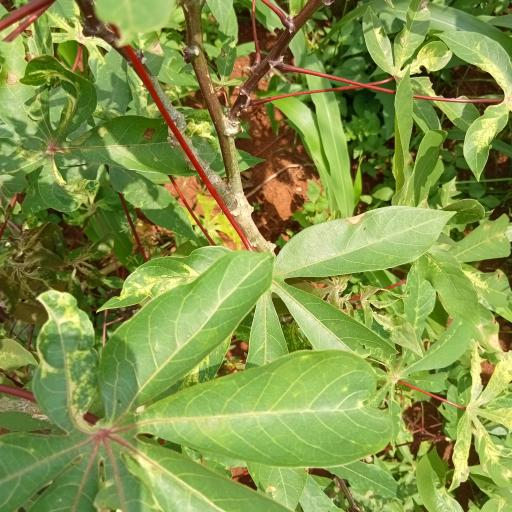Cassava_Healthy: (0, 259, 384, 512), (107, 207, 446, 401)
